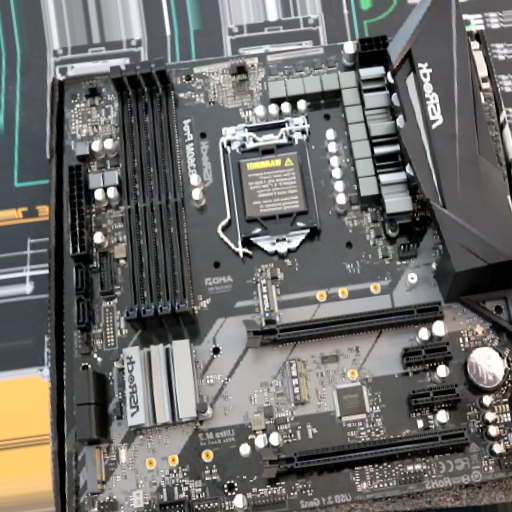CPU: (224, 117, 319, 255)
GPU: (260, 425, 470, 481), (243, 301, 445, 349)
MOTHERBOARD: (65, 34, 511, 509)
RAM: (110, 58, 199, 330)
SSD: (85, 448, 104, 496), (289, 360, 307, 404), (258, 284, 278, 323)
